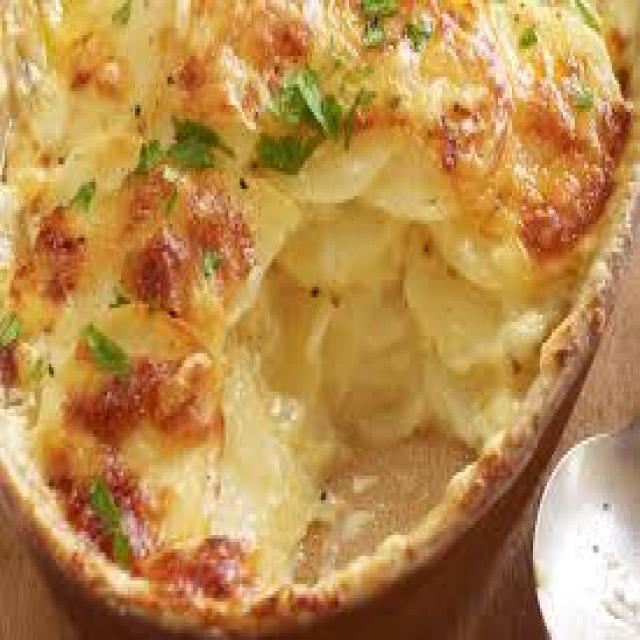Food -Biodegradable-: (0, 0, 640, 637)
